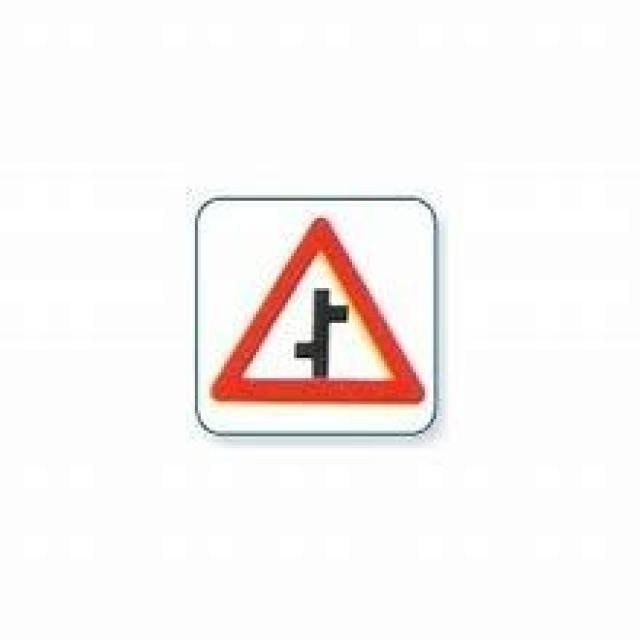staggered intersection: (211, 212, 422, 402)
